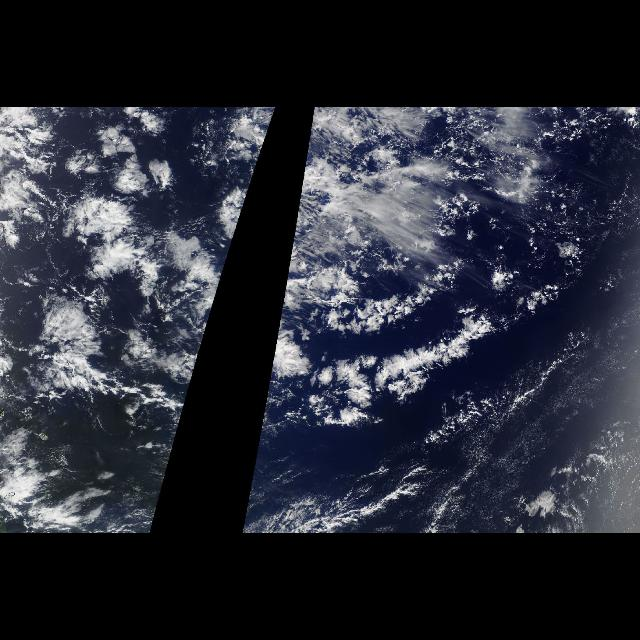Fish: (34, 282, 180, 420)
Flower: (0, 108, 200, 386), (294, 306, 544, 440), (3, 425, 135, 533)
Gravel: (256, 401, 638, 533), (316, 108, 598, 245)
